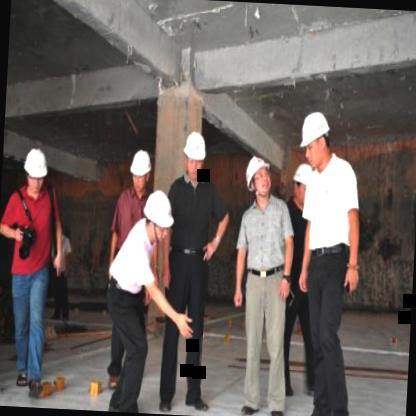helmet: (296, 107, 336, 170), (142, 190, 177, 247), (20, 141, 50, 192), (179, 129, 209, 179), (127, 144, 154, 196), (245, 154, 275, 200), (290, 164, 312, 207)
